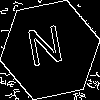N: (25, 25, 67, 76)
